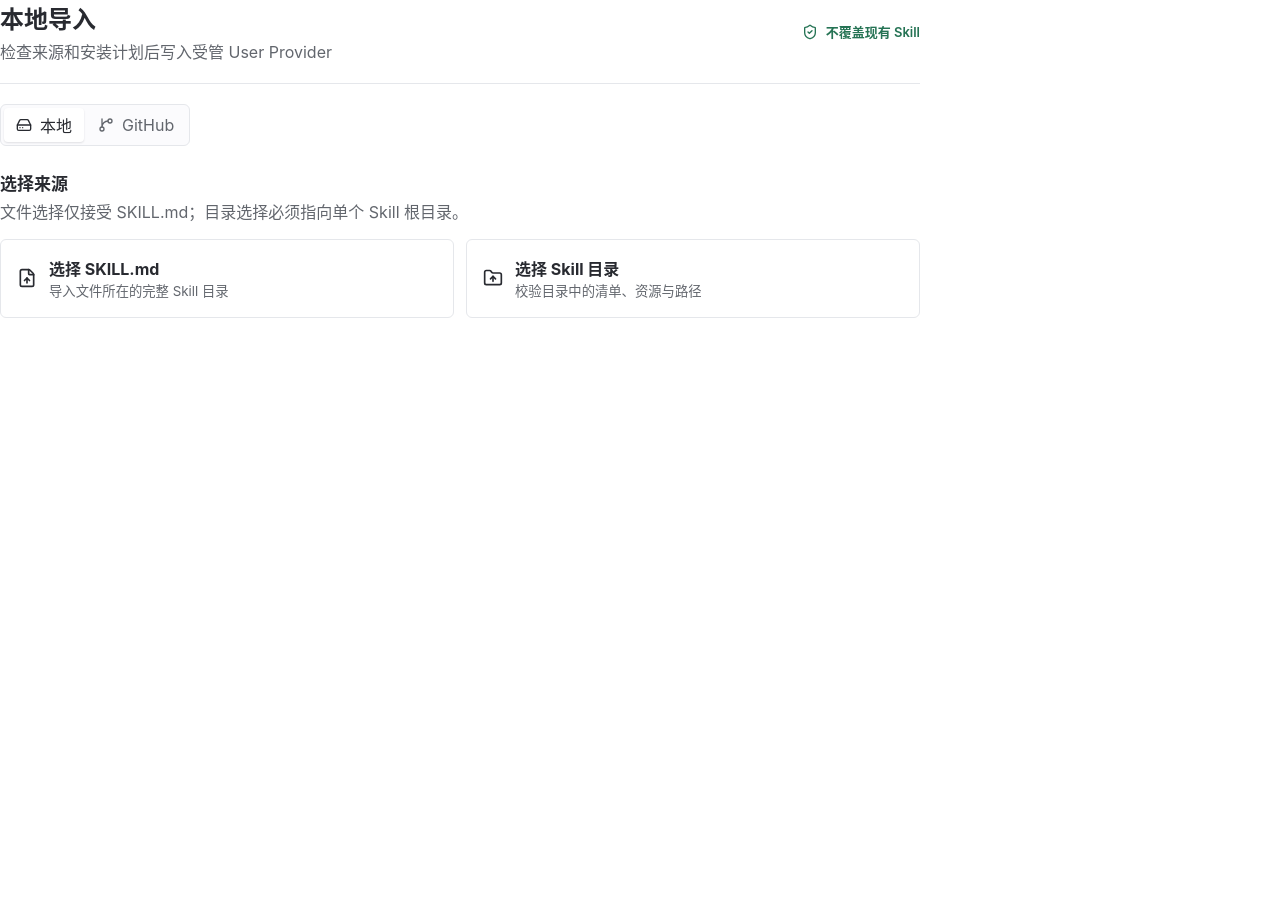
Test case: InstallPage › executes only after explicit confirmation and shows success
Click the button "选择 SKILL.md 导入文件所在的完整 Skill 目录" at (104, 269), box x1=0 y1=239 x2=454 y2=318
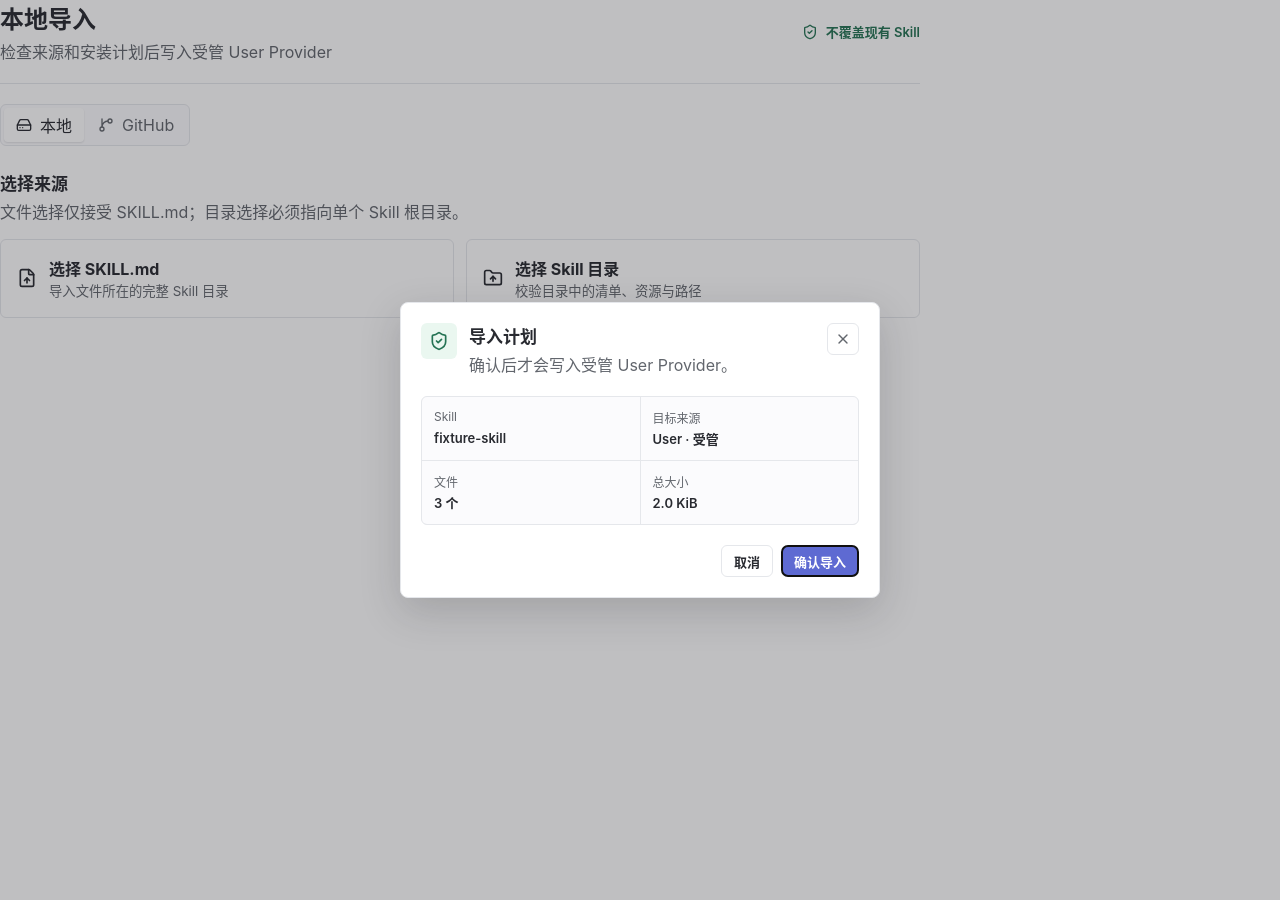
Click the button "确认导入" at (820, 561), box x1=781 y1=545 x2=859 y2=577
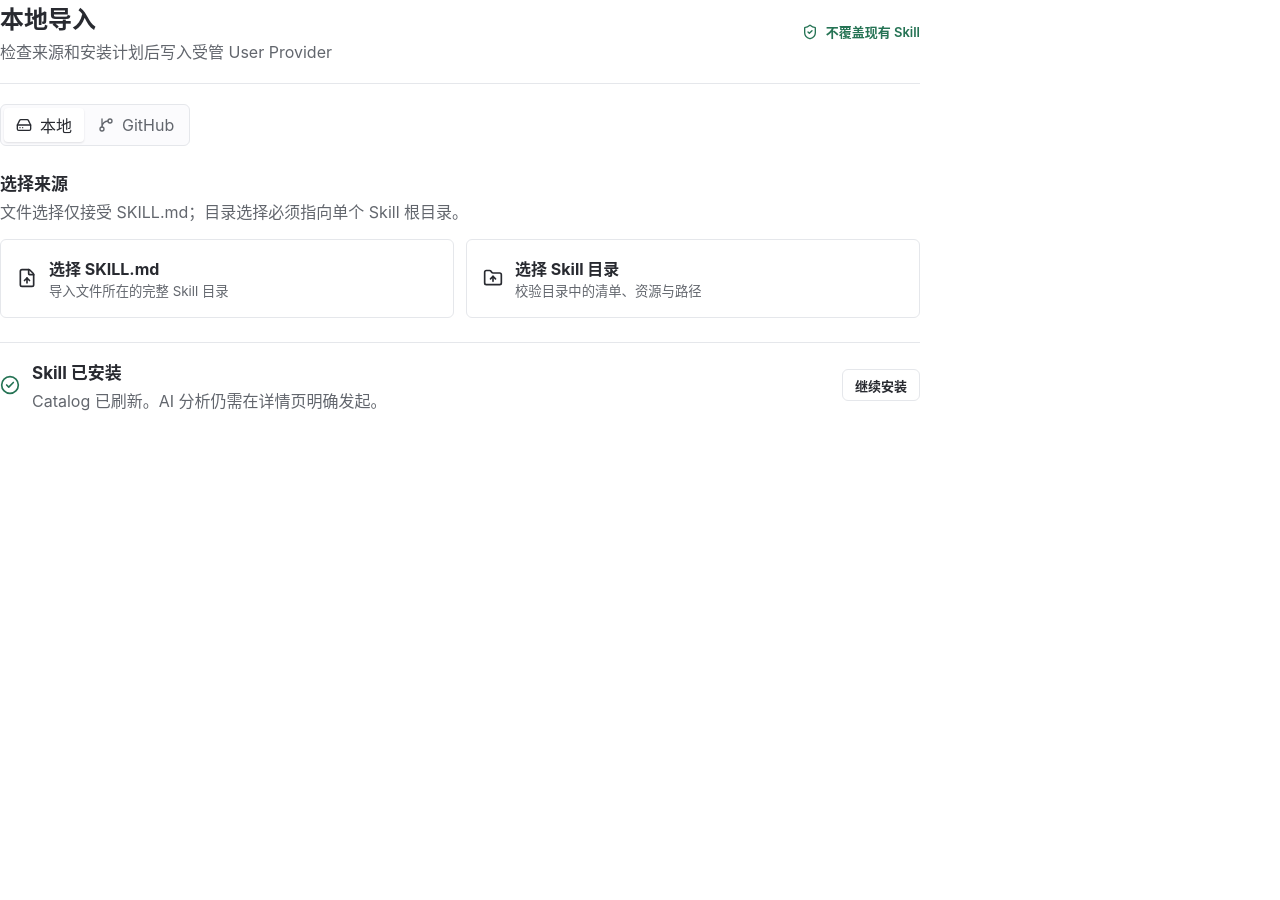
Expected: the heading "Skill 已安装" is shown, x1=32 y1=363 x2=122 y2=383
Expected: the dialog is gone
